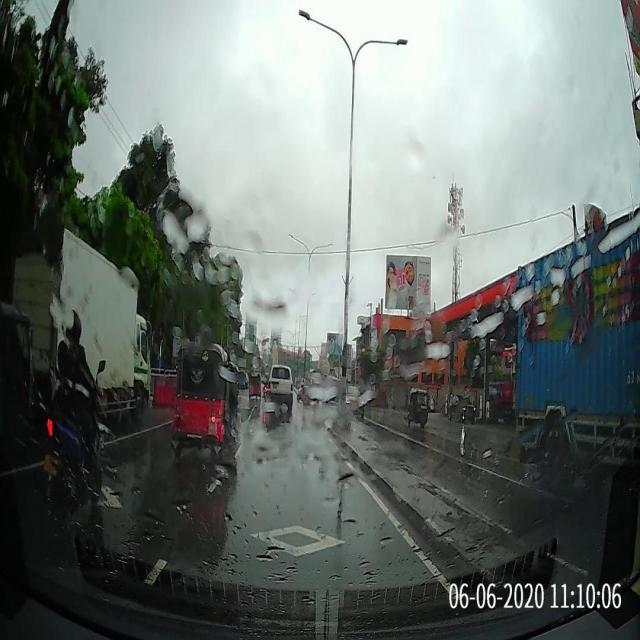Liniya 1: (342, 457, 453, 588), (104, 420, 172, 447), (1, 459, 45, 479), (143, 558, 168, 586)
Romb: (252, 521, 342, 557)
